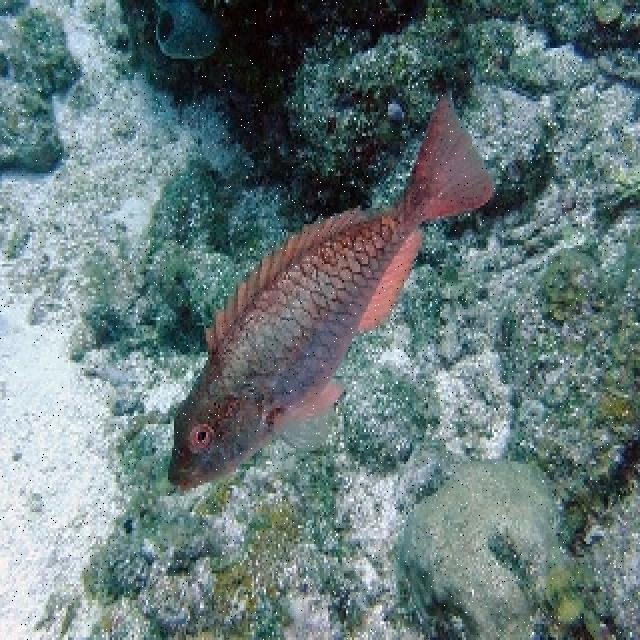fish: (164, 88, 502, 490)
sea-floor: (282, 18, 596, 232), (401, 462, 638, 637), (0, 0, 85, 172), (154, 0, 220, 59)
